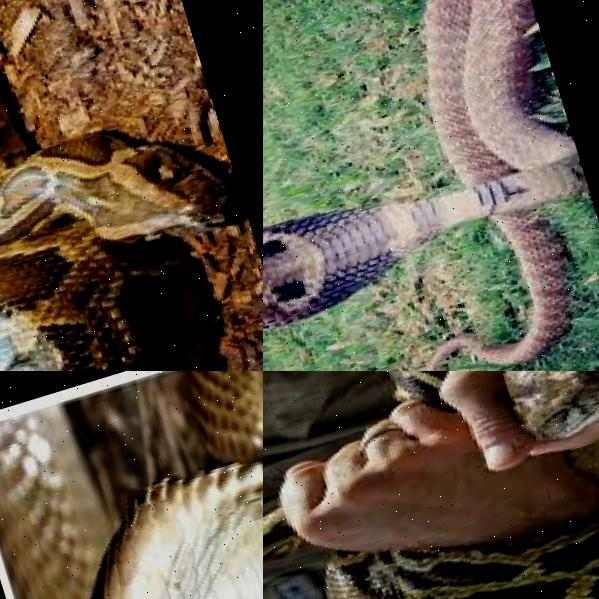snake: (263, 0, 599, 371), (0, 0, 263, 371), (297, 371, 599, 599), (9, 371, 263, 599)
